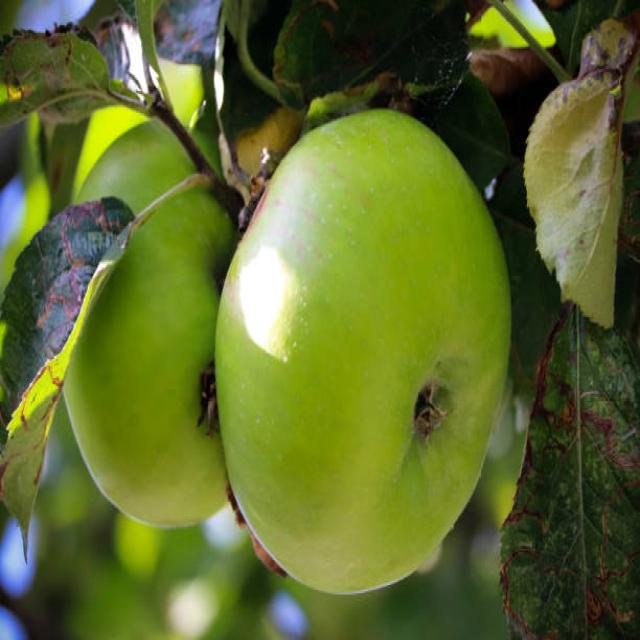Unripe: (217, 110, 513, 597)
